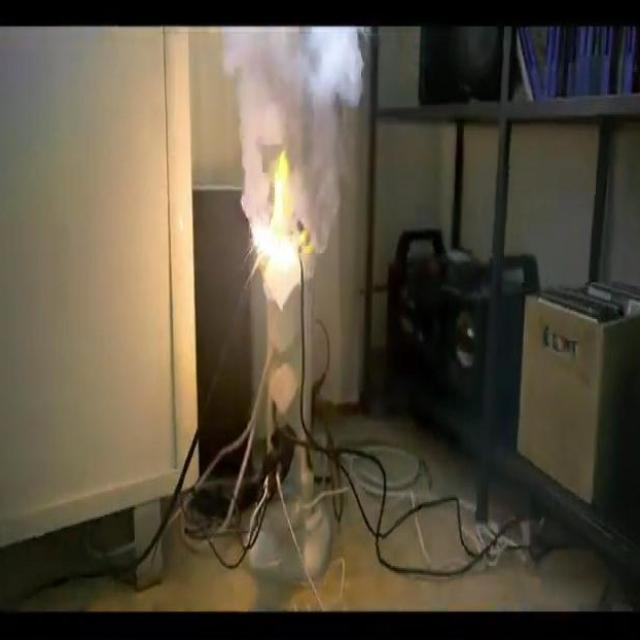fire: (223, 25, 365, 146)
smoke: (248, 149, 318, 271)
